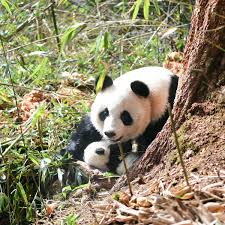panda: (43, 53, 186, 187)
